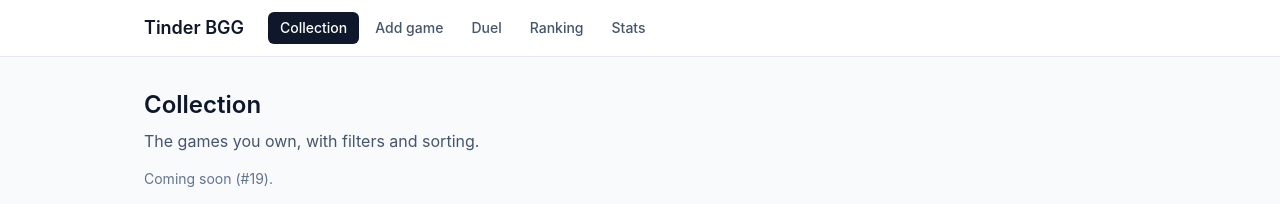
App routing › navigates between pages
Click the link "Add game" at (409, 28), box 375,19 -> 443,36
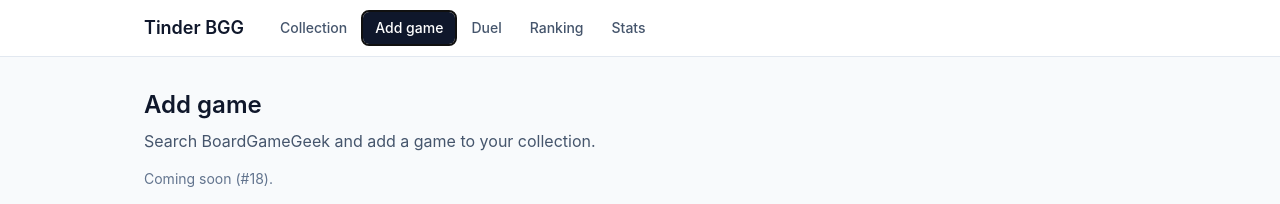
expect the heading "Add game" is shown: met, box 144,90 -> 262,119
Click the link "Duel" at (487, 28), box 471,19 -> 502,36
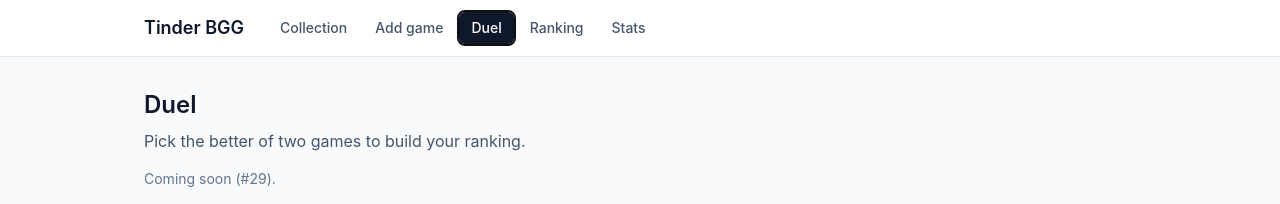
expect the heading "Duel" is shown: met, box 144,90 -> 196,119
Click the link "Ranking" at (557, 28), box 530,19 -> 584,36
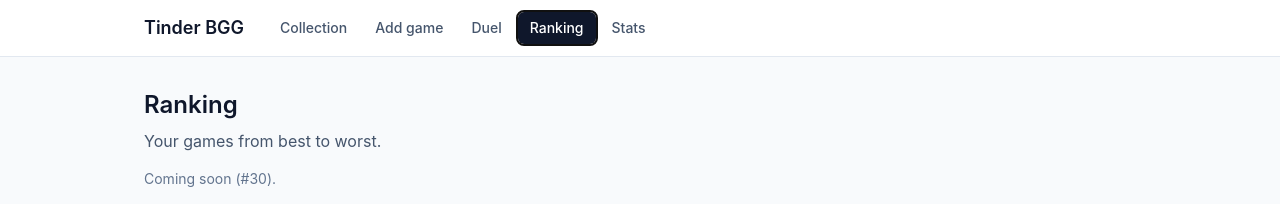
expect the heading "Ranking" is shown: met, box 144,90 -> 238,119
Click the link "Stats" at (628, 28), box 612,19 -> 646,36
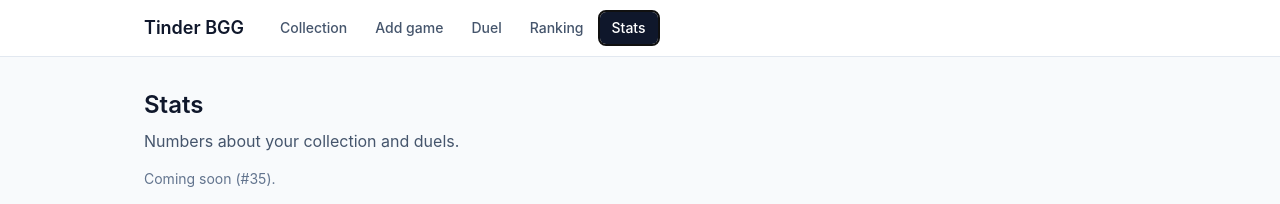
expect the heading "Stats" is shown: met, box 144,90 -> 203,119
Click the link "Collection" at (314, 28), box 280,19 -> 347,36
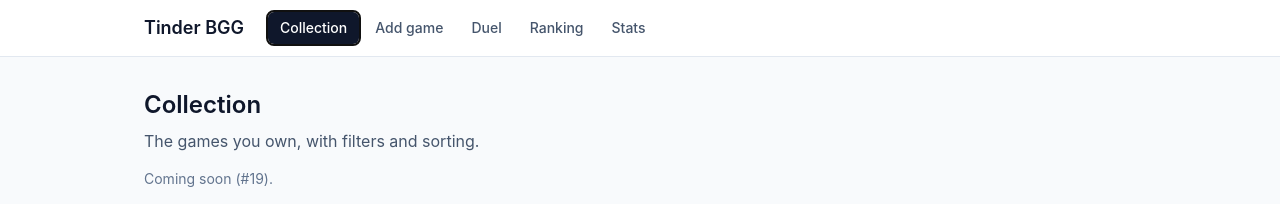
expect the heading "Collection" is shown: met, box 144,90 -> 261,119
